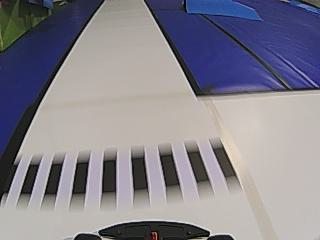CrossWalk: (3, 132, 245, 214)
